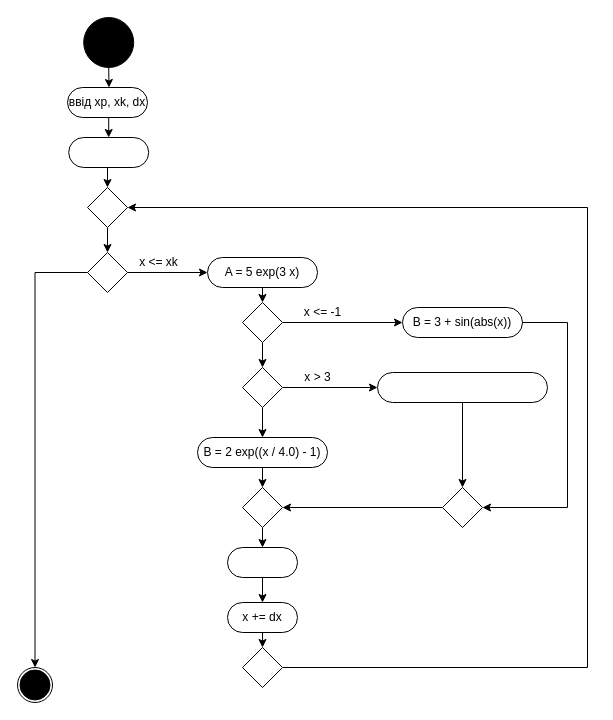
This 613x720 diagram has some shape labels left out. The shapes that lost their labels are listed below. From the top down, each one's centre as x and y in pixels, then its label:
At point (108, 152): "x = xp".
At point (462, 387): "B = cos((7 - sqrt(2)) pow(x, 3))".
At point (262, 562): "y = A + B".
